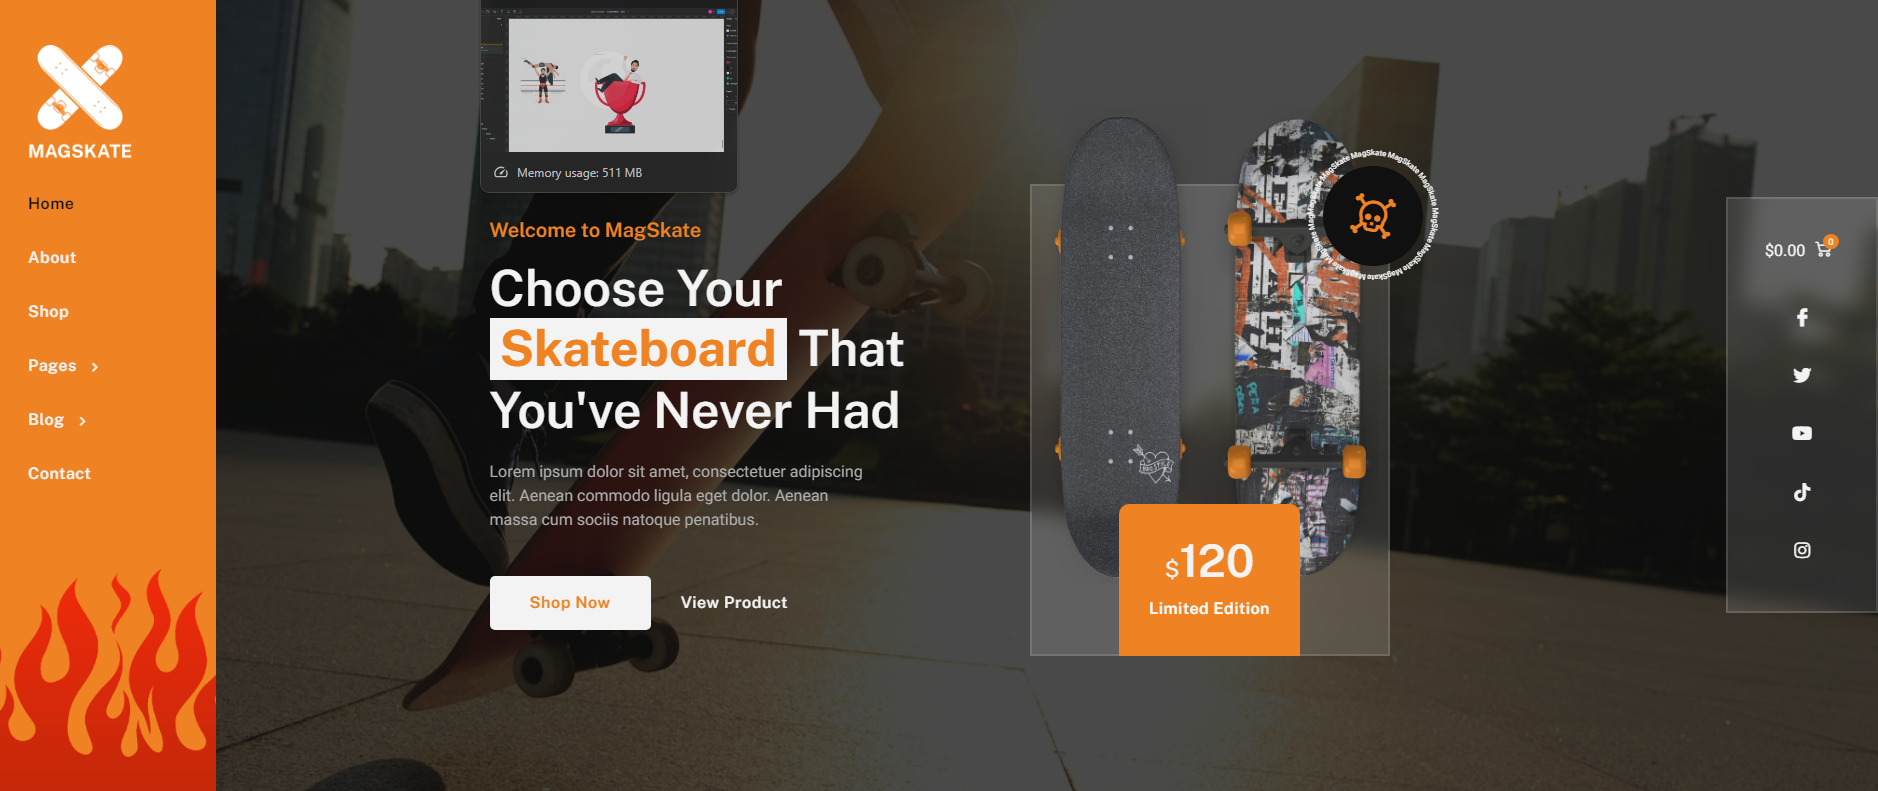menu-bar: (2, 11, 204, 748)
